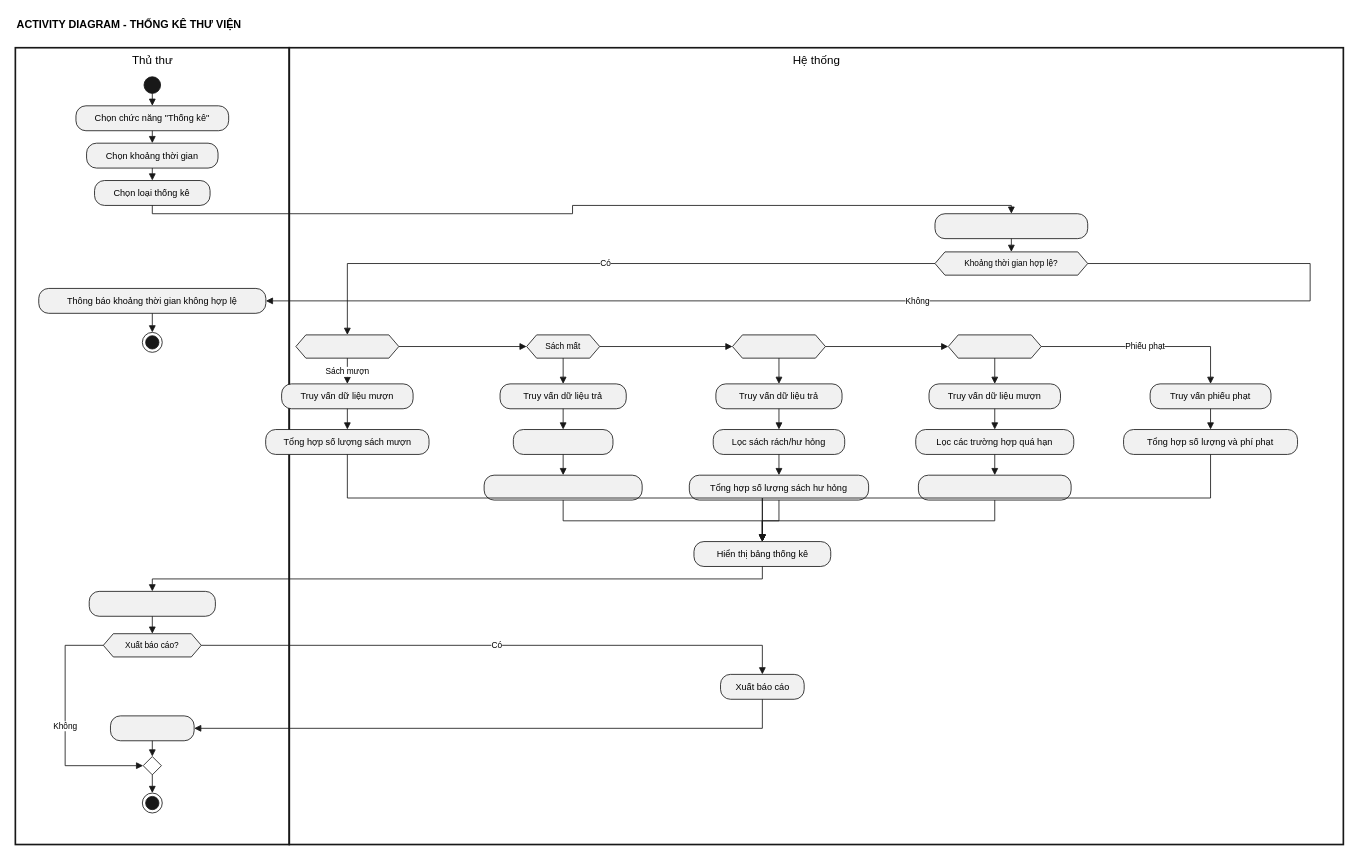
This 1358x859 diagram has some shape labels left out. The shapes that lost their labels are listed below. From the top down, each one's centre as x and y in pixels, then its label:
At point (1011, 226): "Kiểm tra khoảng thời gian".
At point (347, 346): "Loại thống kê?".
At point (778, 346): "Sách hư hỏng".
At point (994, 346): "Sách quá hạn".
At point (563, 441): "Lọc sách bị mất".
At point (562, 487): "Tổng hợp số lượng sách mất".
At point (994, 487): "Tổng hợp số lượng quá hạn".
At point (151, 603): "Xem kết quả thống kê".
At point (152, 728): "Nhận báo cáo".
